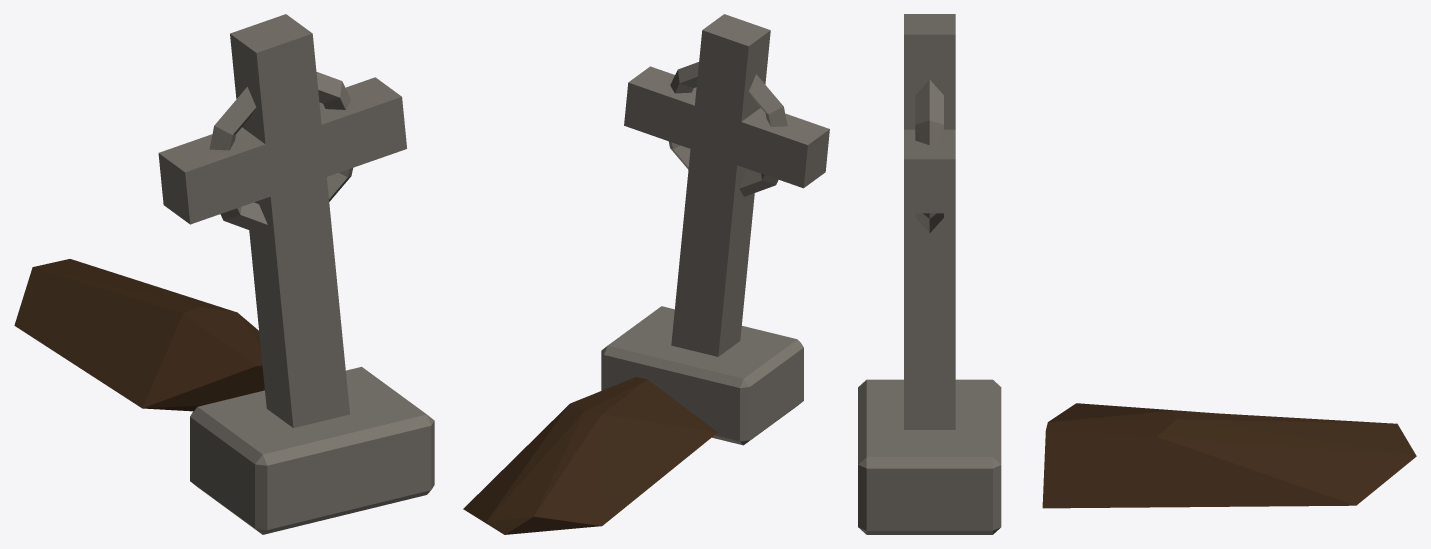
The model's file is lapida_cruz.fbx.
3 views of the same model, side by side, from view 1: azimuth 30°, elevation 25°; view 2: azimuth 150°, elevation 25°; view 3: azimuth 270°, elevation 25° (orthographic). The views are drawn at different scales.
Visible parts, largest first — view 1: lapida_cruz; view 2: lapida_cruz; view 3: lapida_cruz.
Boxes of the visible parts, x1,y1,x2,y2 form: lapida_cruz: [14, 14, 434, 534]; lapida_cruz: [463, 14, 829, 534]; lapida_cruz: [858, 14, 1416, 534].
Bounding box in the file's own units: 0.8977 × 1.75 × 1.95.
